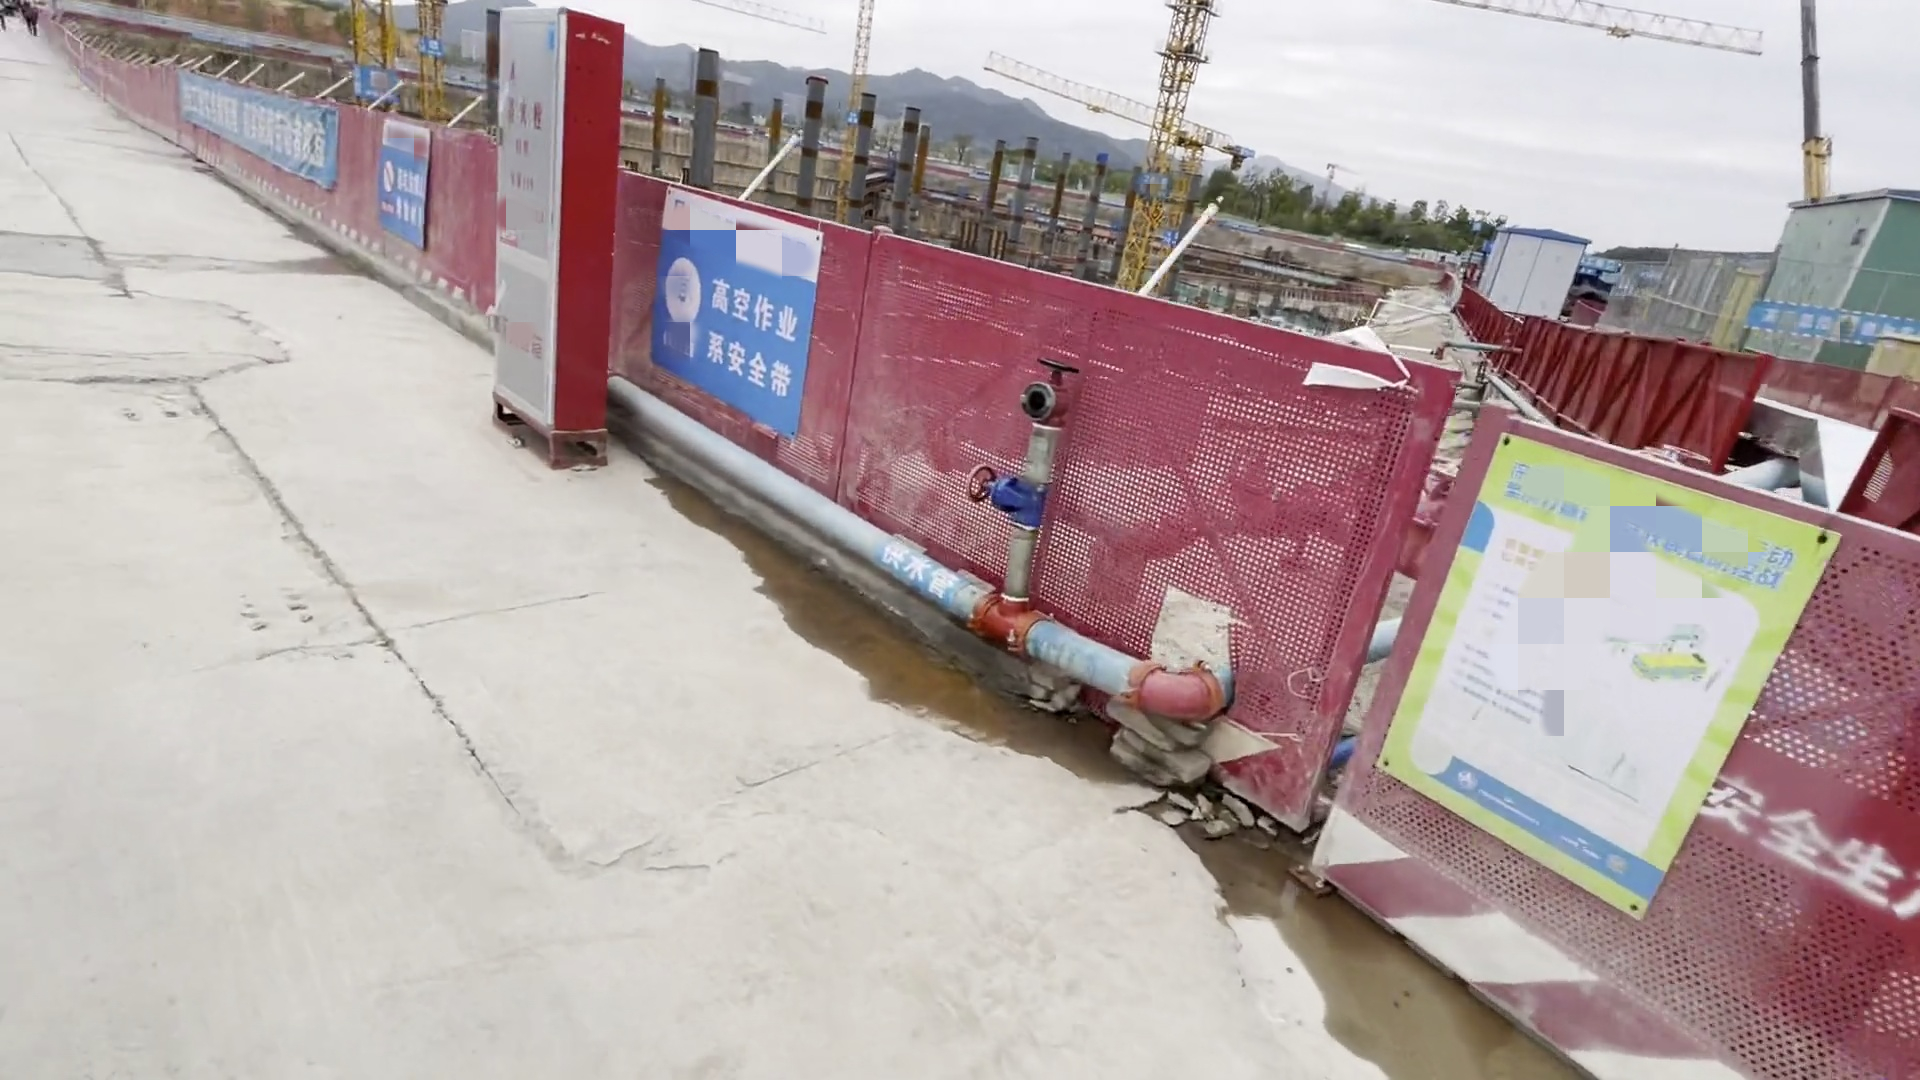fence: (553, 211, 1476, 736), (1358, 491, 1920, 1080), (24, 17, 512, 323)
slogan: (1441, 409, 1735, 885), (650, 249, 822, 394), (164, 78, 314, 179), (355, 140, 454, 227)
